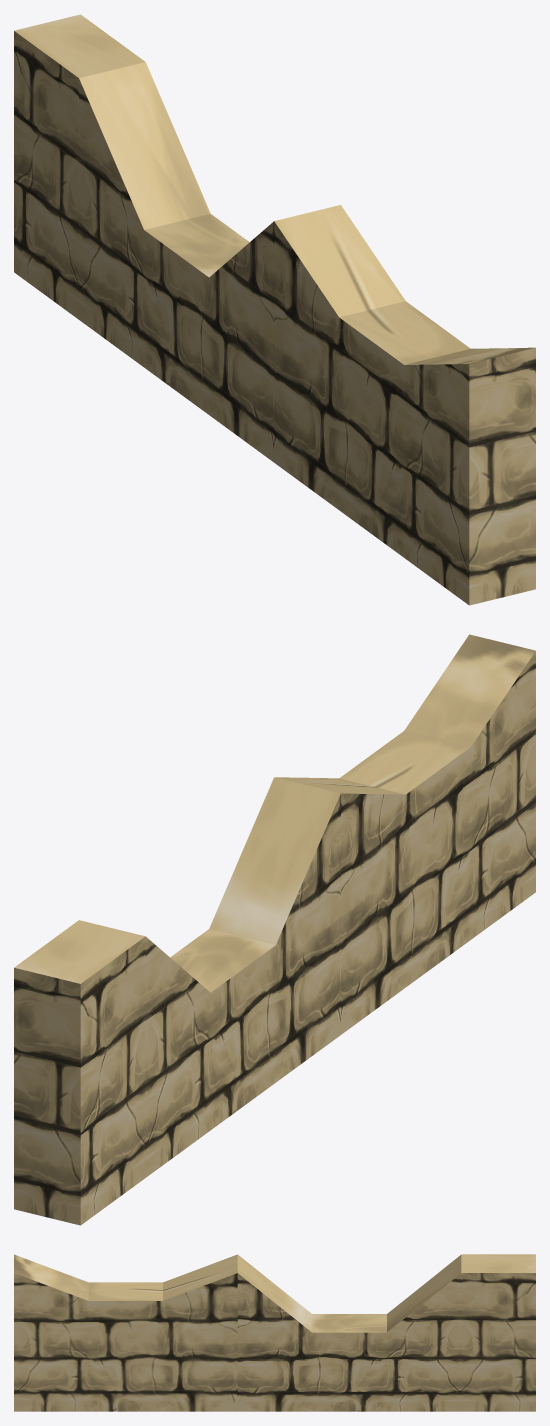
The model's file is Wall.fbx.
3 renders of one model, top to bottom at view 1: azimuth 30°, elevation 25°; view 2: azimuth 150°, elevation 25°; view 3: azimuth 270°, elevation 25°, orthographic. The views are drawn at different scales.
Visible parts, largest first — view 1: Wall; view 2: Wall; view 3: Wall.
Boxes of the visible parts, x1=… form: Wall: x1=14, y1=14, x2=535, y2=605; Wall: x1=14, y1=634, x2=535, y2=1225; Wall: x1=14, y1=1254, x2=535, y2=1411.
Size of the model in its own units: 57.75 by 200 by 683.
